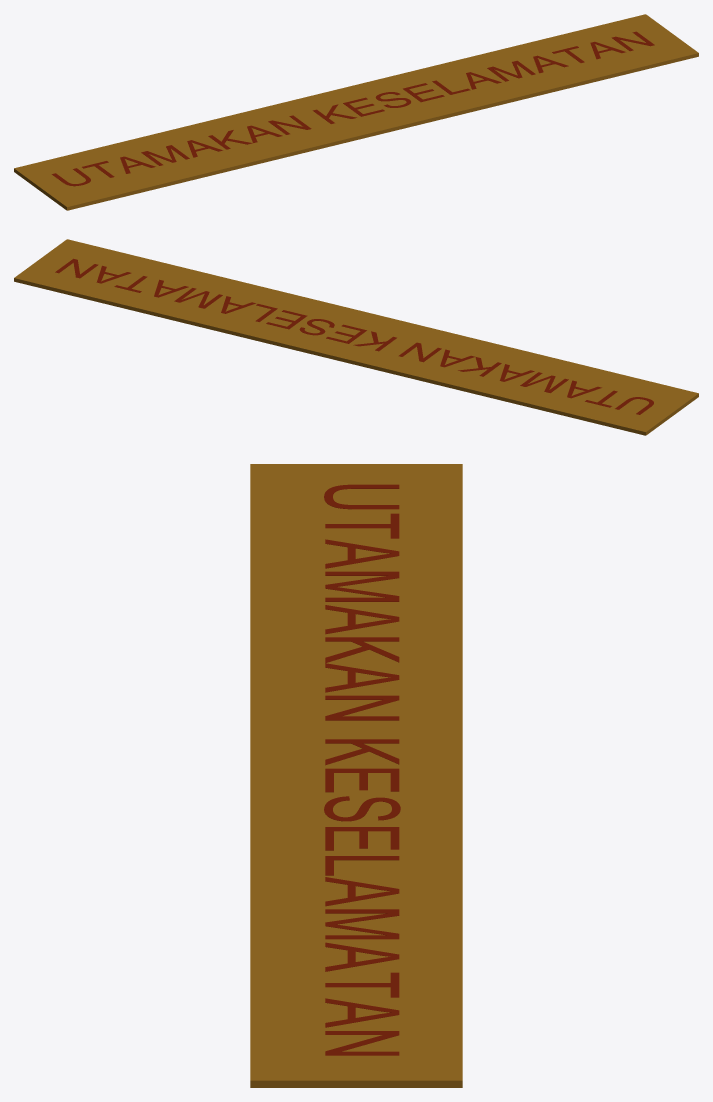
File: Utamakan Keselamatan.fbx
3 views of the same model, one above another, from view 1: azimuth 30°, elevation 25°; view 2: azimuth 150°, elevation 25°; view 3: azimuth 270°, elevation 25° (orthographic). The views are drawn at different scales.
Parts seen in each view (by area): view 1: Cube, UTAMAKAN KESELAMATAN; view 2: Cube, UTAMAKAN KESELAMATAN; view 3: Cube, UTAMAKAN KESELAMATAN.
Part boxes in pixels (x1,y1,x2,y2): Cube: (14,14,698,210); UTAMAKAN KESELAMATAN: (52,31,654,186); Cube: (14,239,698,435); UTAMAKAN KESELAMATAN: (55,258,653,414); Cube: (250,464,462,1087); UTAMAKAN KESELAMATAN: (324,484,400,1055).
Bounding box in the file's own units: 8275 × 49.5 × 1205.
